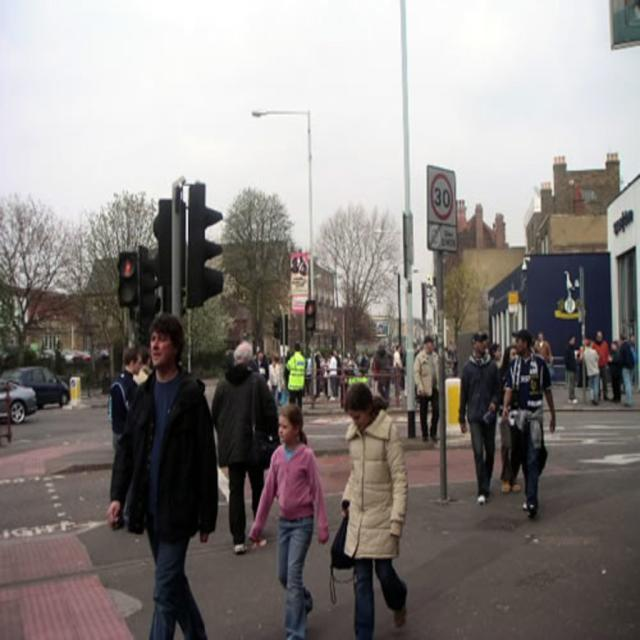off traffic light: (188, 180, 225, 315)
road_sign: (427, 168, 459, 225)
traffic light: (114, 248, 139, 308)
